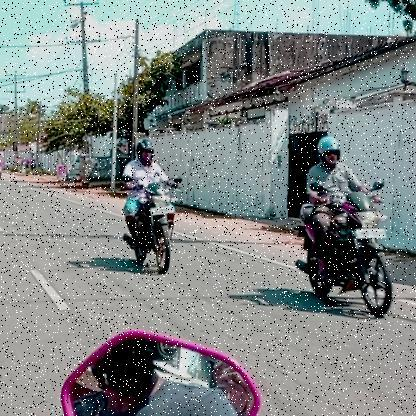motorcycle: (292, 191, 400, 318), (118, 182, 184, 277)
